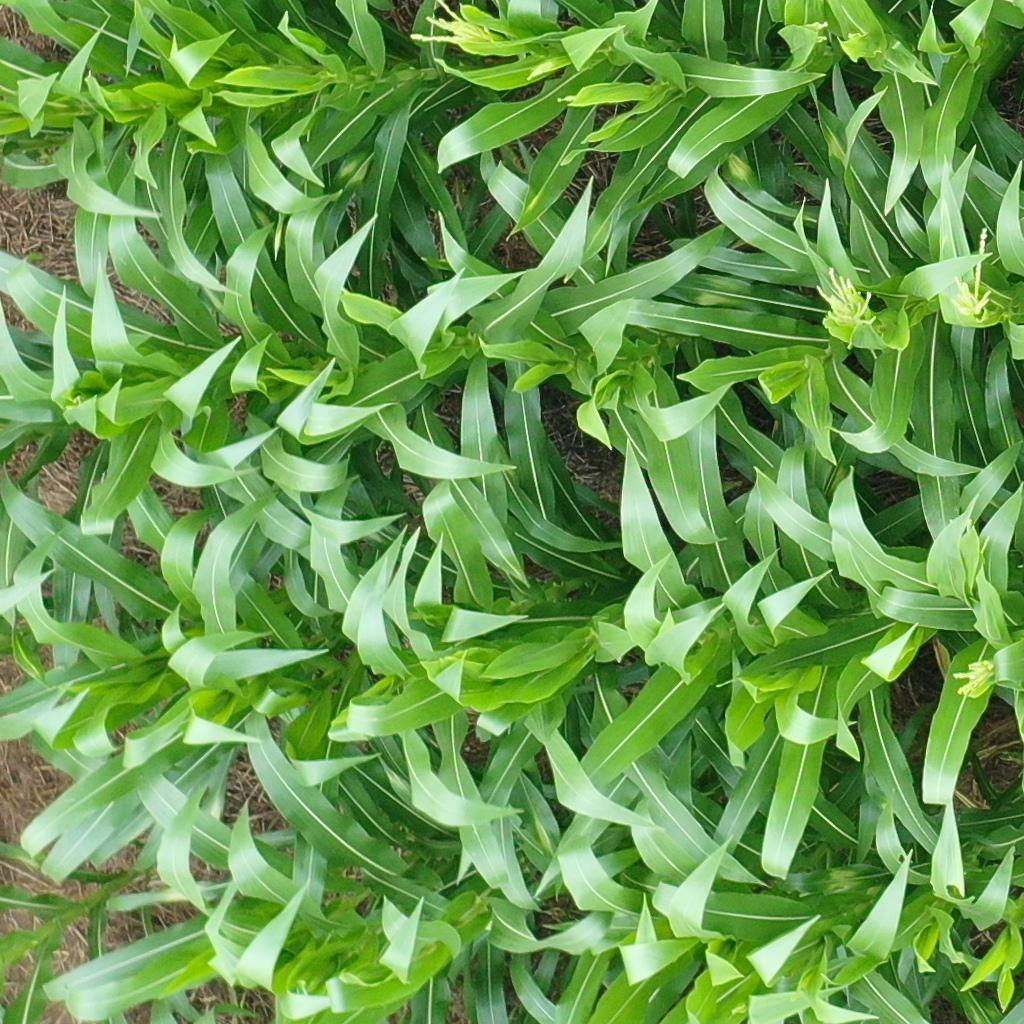Tassel: (810, 262, 882, 335), (950, 224, 999, 323), (407, 1, 503, 47), (950, 656, 997, 699), (802, 17, 833, 48)
